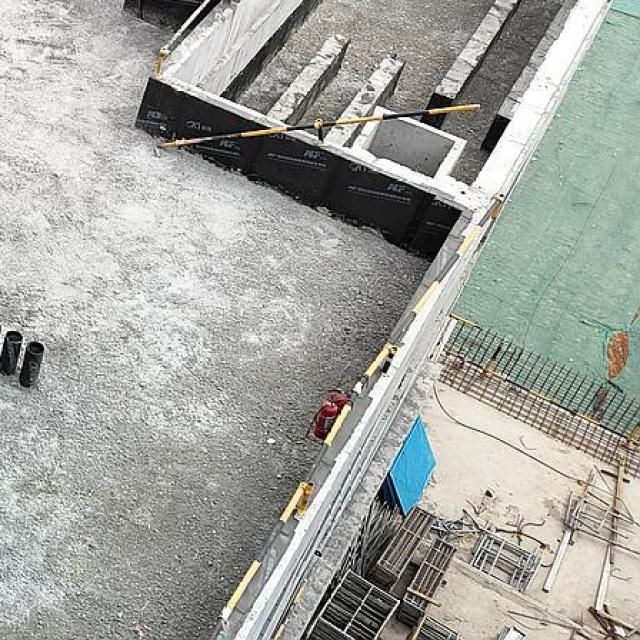Guardrail: (202, 187, 507, 640), (153, 100, 487, 160), (152, 0, 239, 80)
